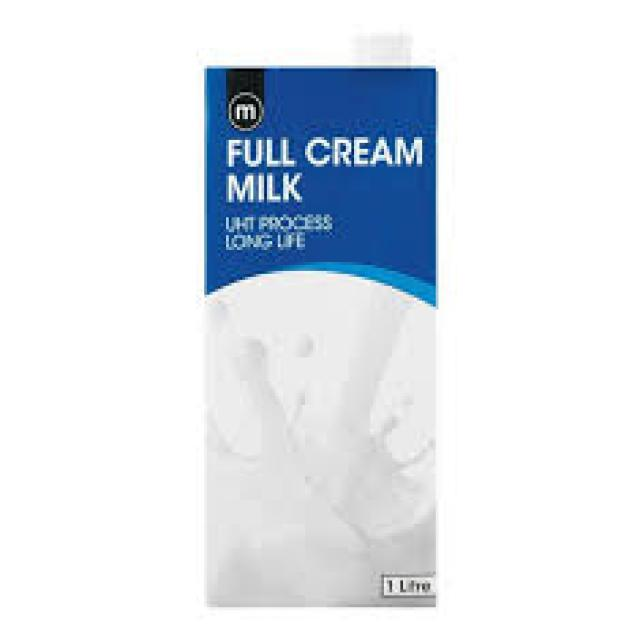milk: (176, 17, 467, 635)
